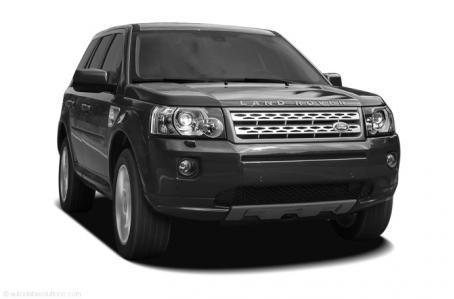car: (57, 25, 403, 261)
